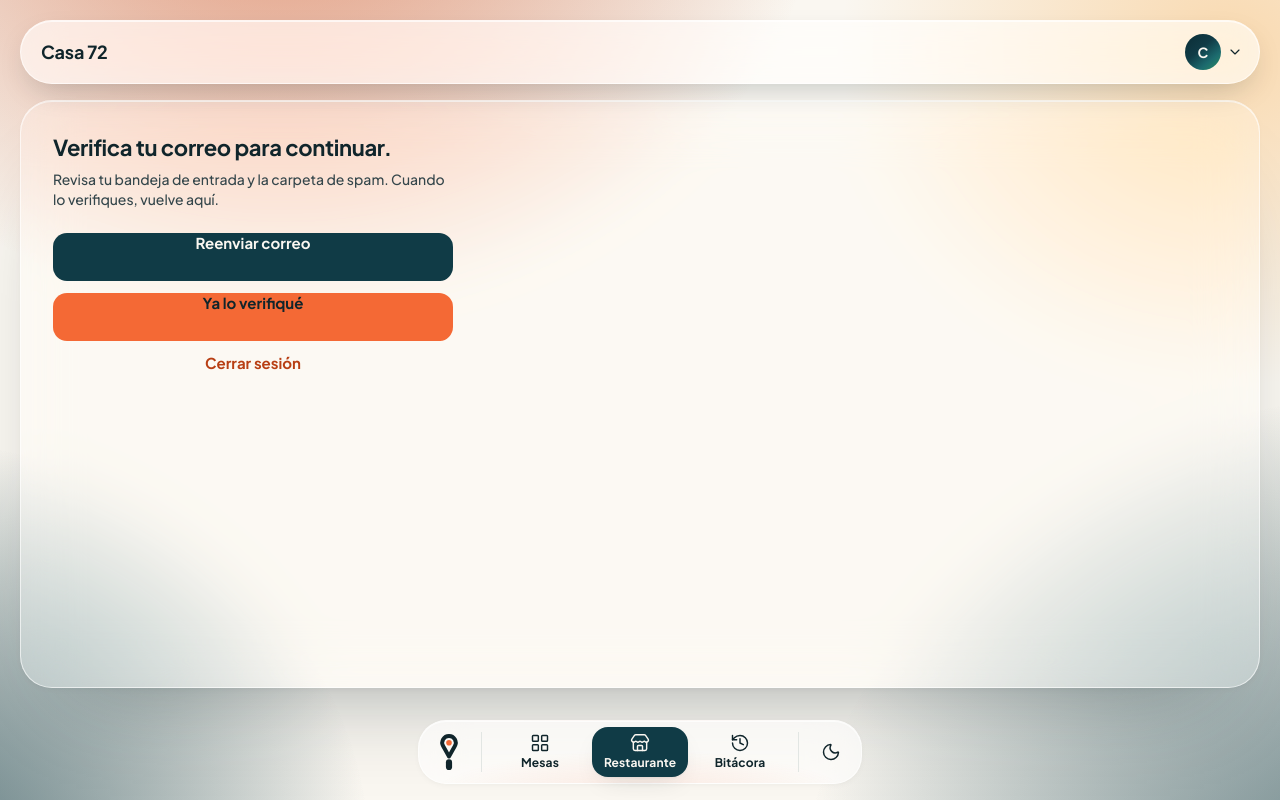
authentication routes › shows a useful message when resend fails with auth/network-request-failed
The width and height of the screenshot is (1280, 800).
Click the button "Reenviar correo" at [253, 242], box [53,233,453,281]
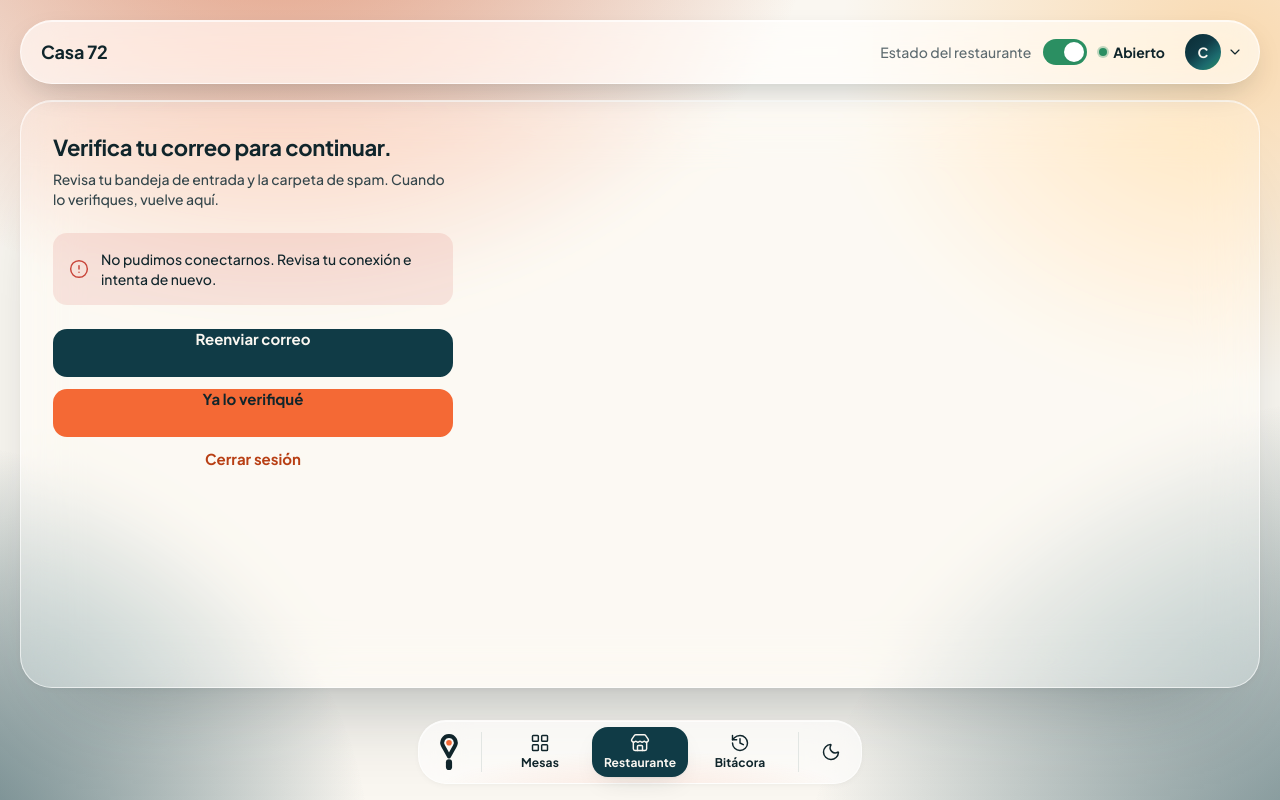
Expected: the message does not show "auth/network-request-failed", [53,233,453,305]
Expected: the message reads "No pudimos conectarnos. Revisa tu conexión e intenta de nuevo.", [101,250,412,288]
